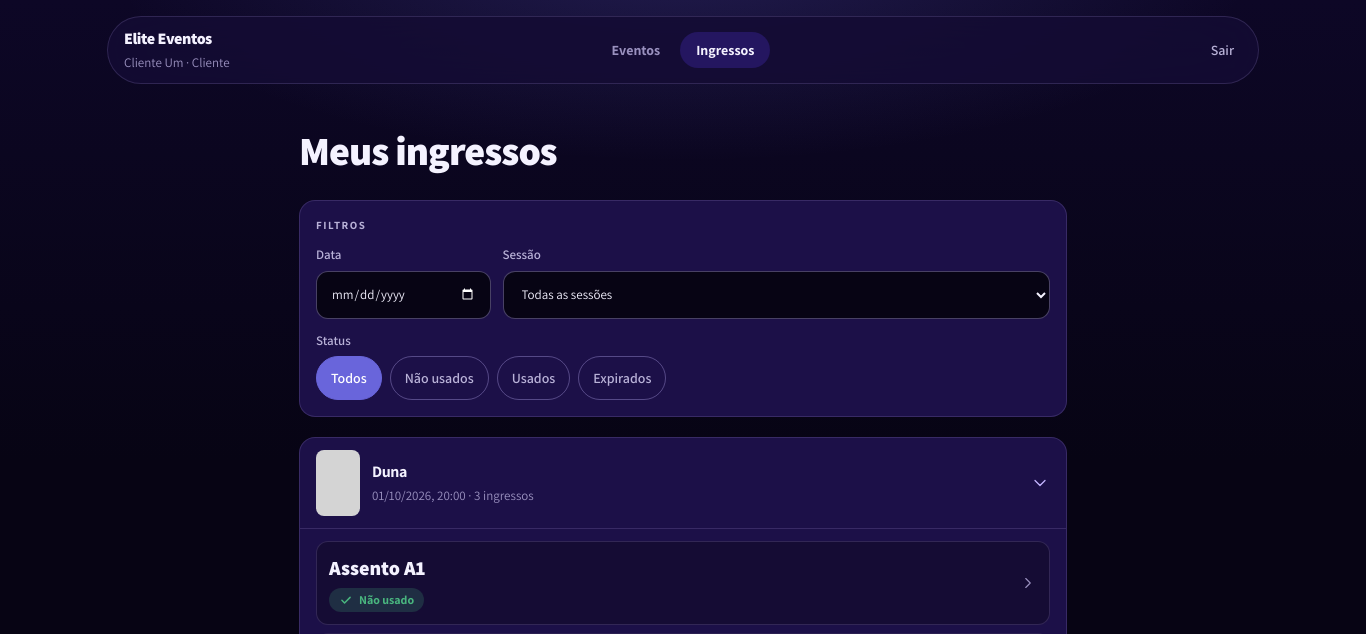
Test case: TicketsPage › filtra expirados e esconde no chip Não usados
The width and height of the screenshot is (1366, 634).
expect the button "Duna 01/10/2026, 20:00 · 3 ingressos" is shown: met, box 300,438 -> 1066,528
Click the button "Expirados" at [622, 378], box 578,356 -> 666,400
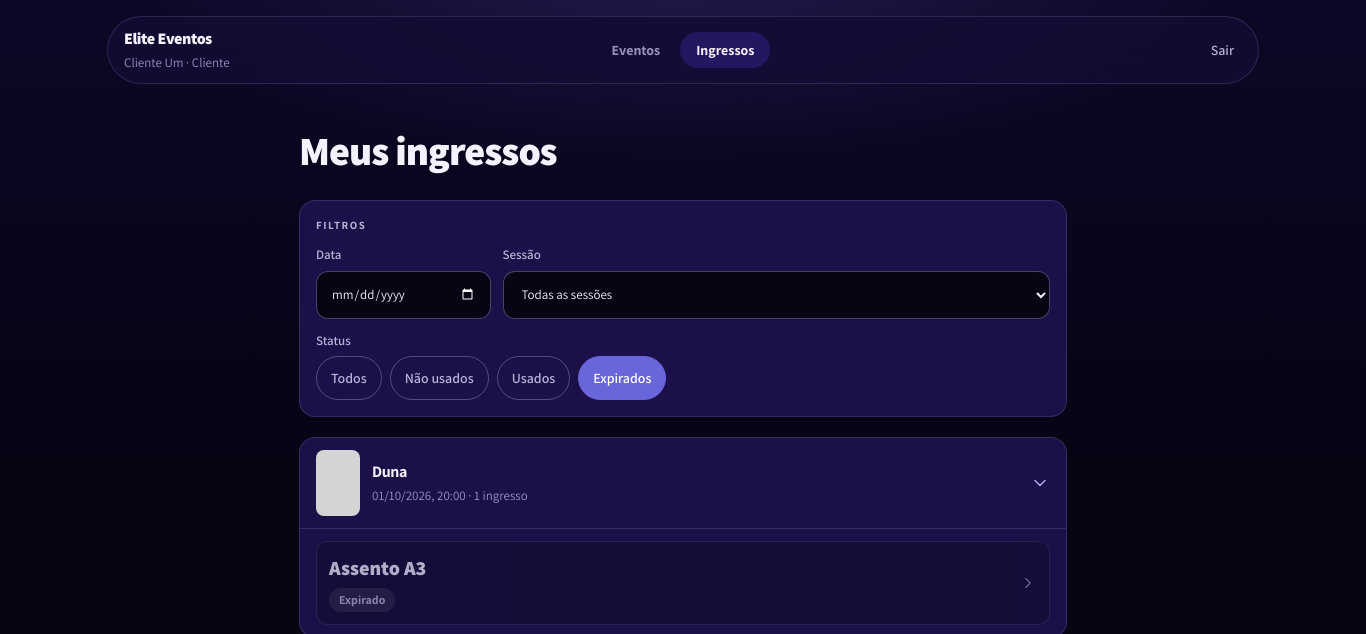
expect the text "Assento A3" is shown: met, box 329,554 -> 426,582
expect the button "Assento A1" is gone: met
Click the button "Não usados" at [439, 378], box 390,356 -> 489,400
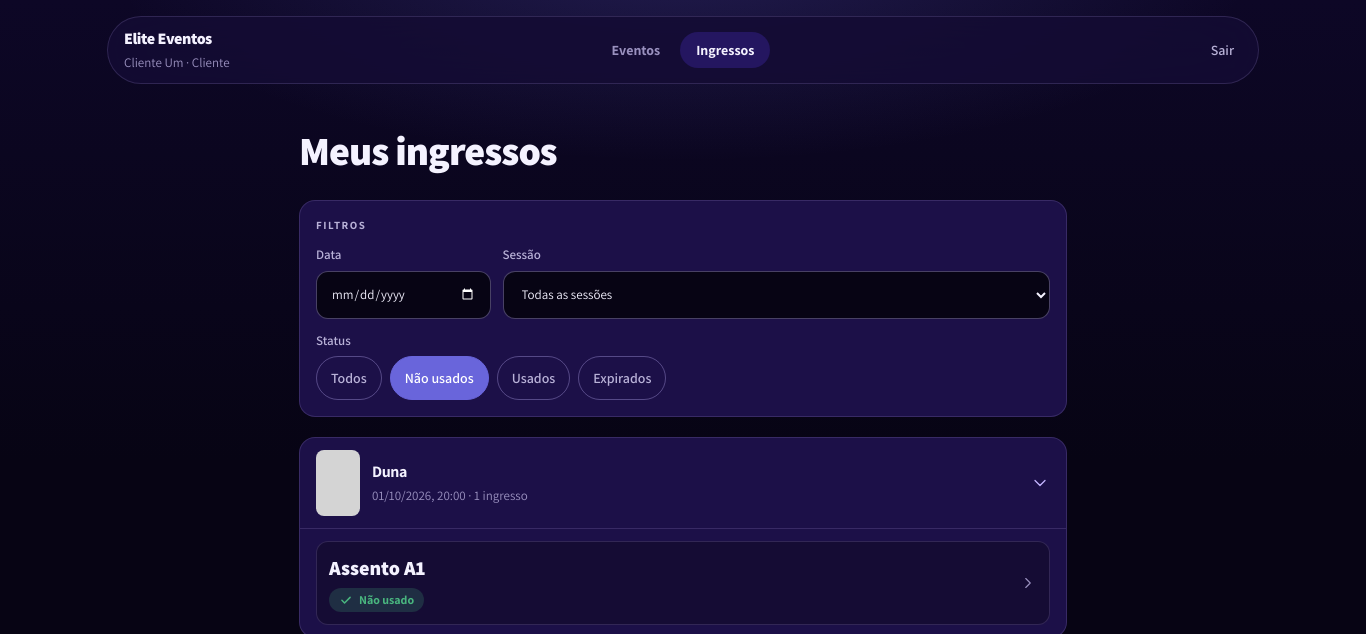
expect the button "Assento A3" is gone: met
expect the text "Assento A1" is shown: met, box 329,554 -> 426,582
